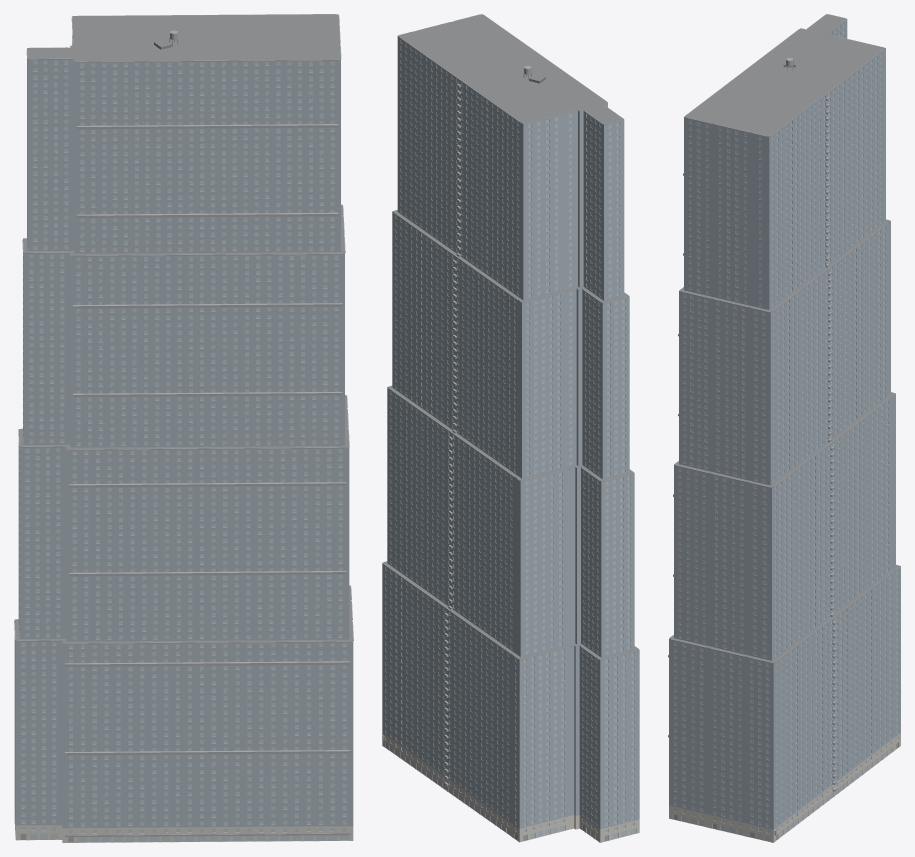
Rendered from doitt-778052__lod_0.glb.
3 views of the same model, side by side, from view 1: azimuth 30°, elevation 25°; view 2: azimuth 150°, elevation 25°; view 3: azimuth 270°, elevation 25° (orthographic). The views are drawn at different scales.
Bounding box in the file's own units: 157 × 383 × 114.
